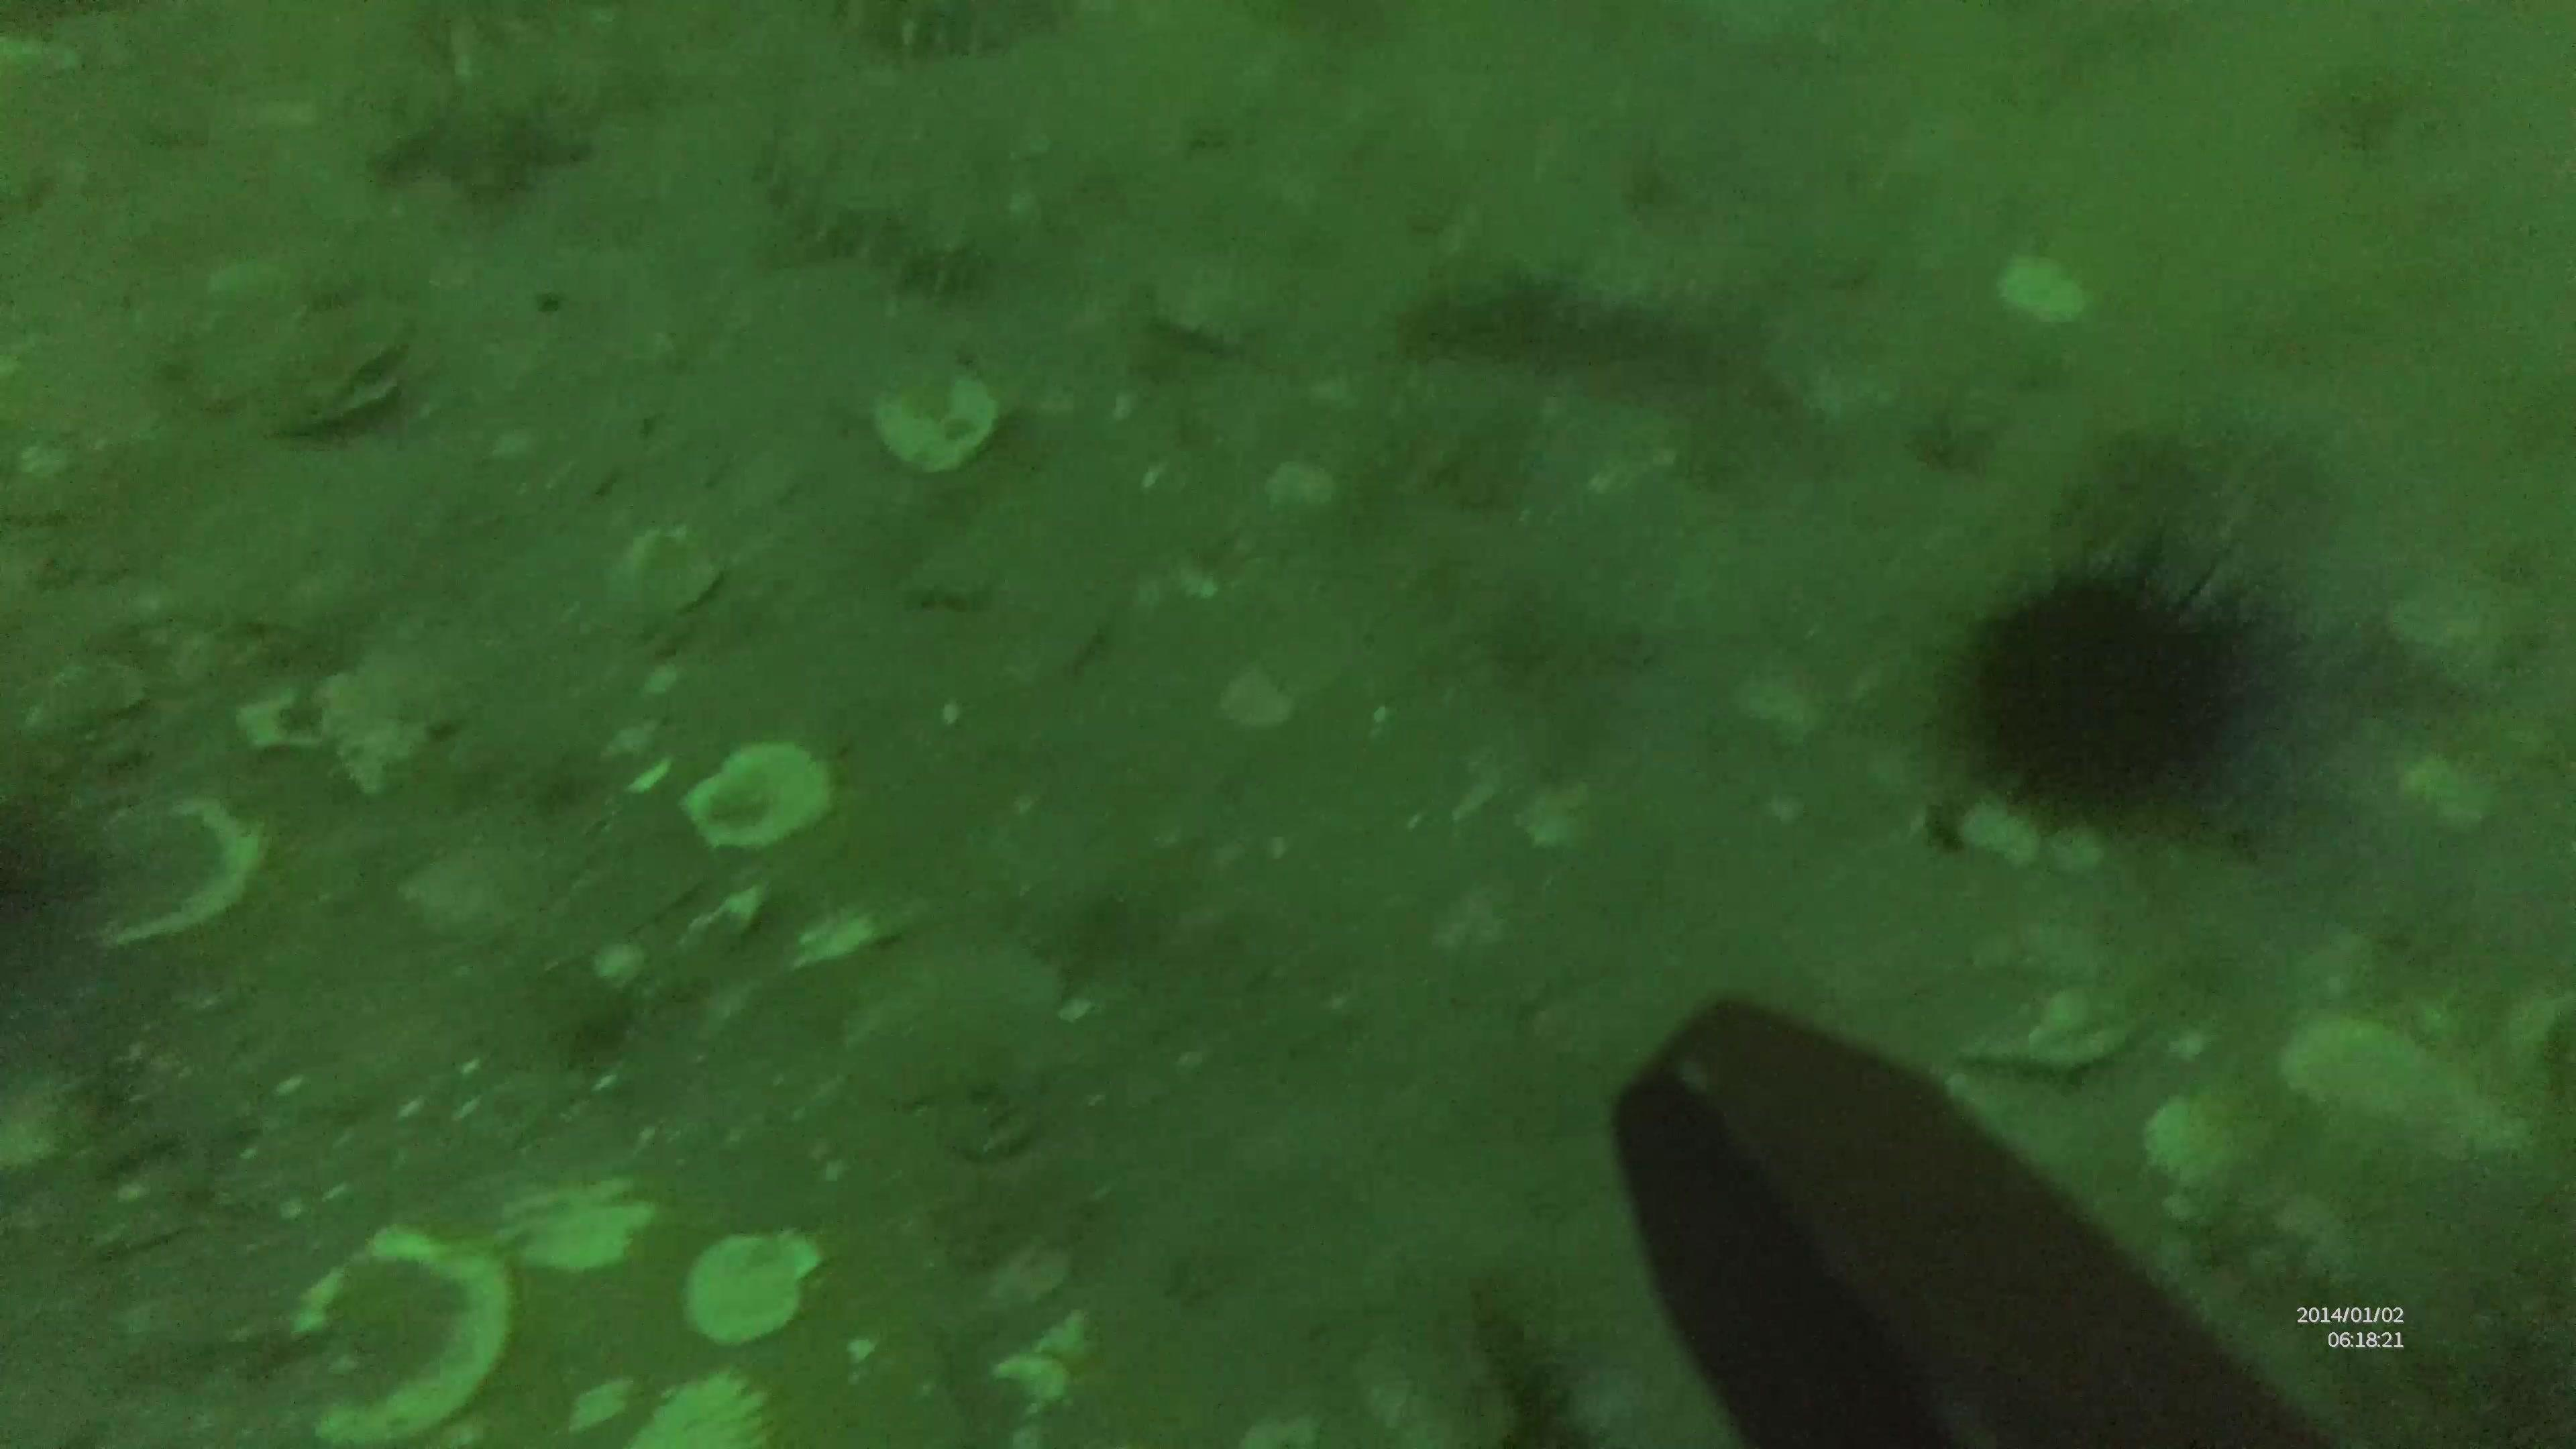echinus: (1946, 518, 2300, 847)
holothurian: (1394, 248, 1835, 444), (757, 122, 1000, 306), (842, 0, 1085, 67)
scallop: (274, 1230, 510, 1449)
